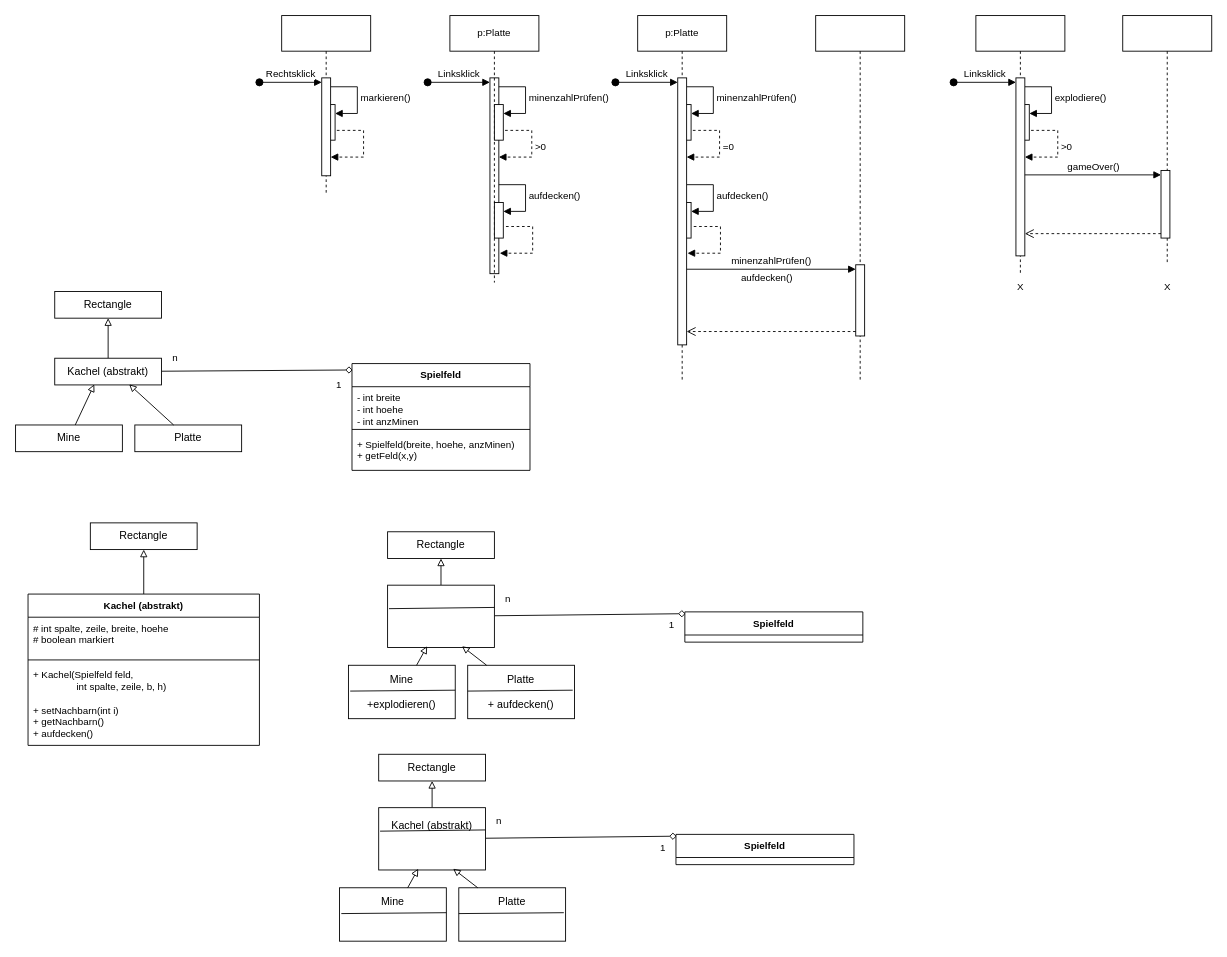
Some shapes in this 1227 by 957 pixel diagram are drawn without their labels. Each missing label, with the box of its shape:
k: Kachel: (281, 15, 371, 194)
Kachel (abstrakt) + aufdecken() + explodieren(): (387, 584, 494, 647)
m:Mine: (975, 15, 1065, 274)
nachbarn: Platte[]: (815, 15, 905, 380)
s:Spielfeld: (1122, 15, 1212, 265)
